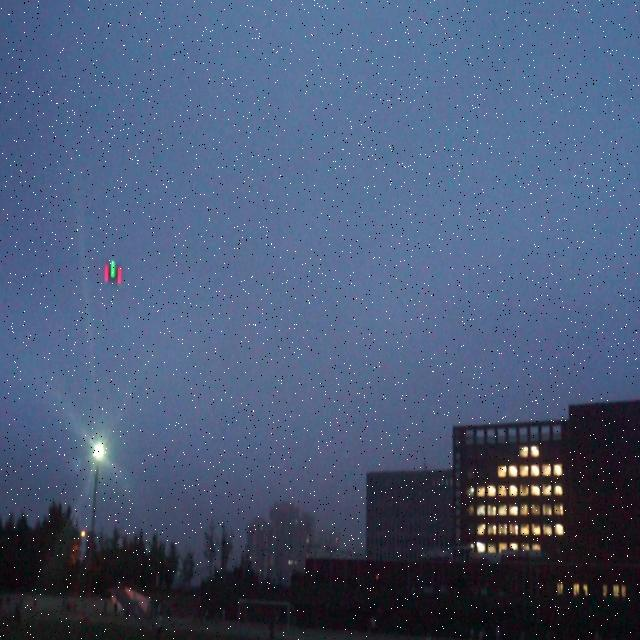UAV: (104, 259, 122, 284)
